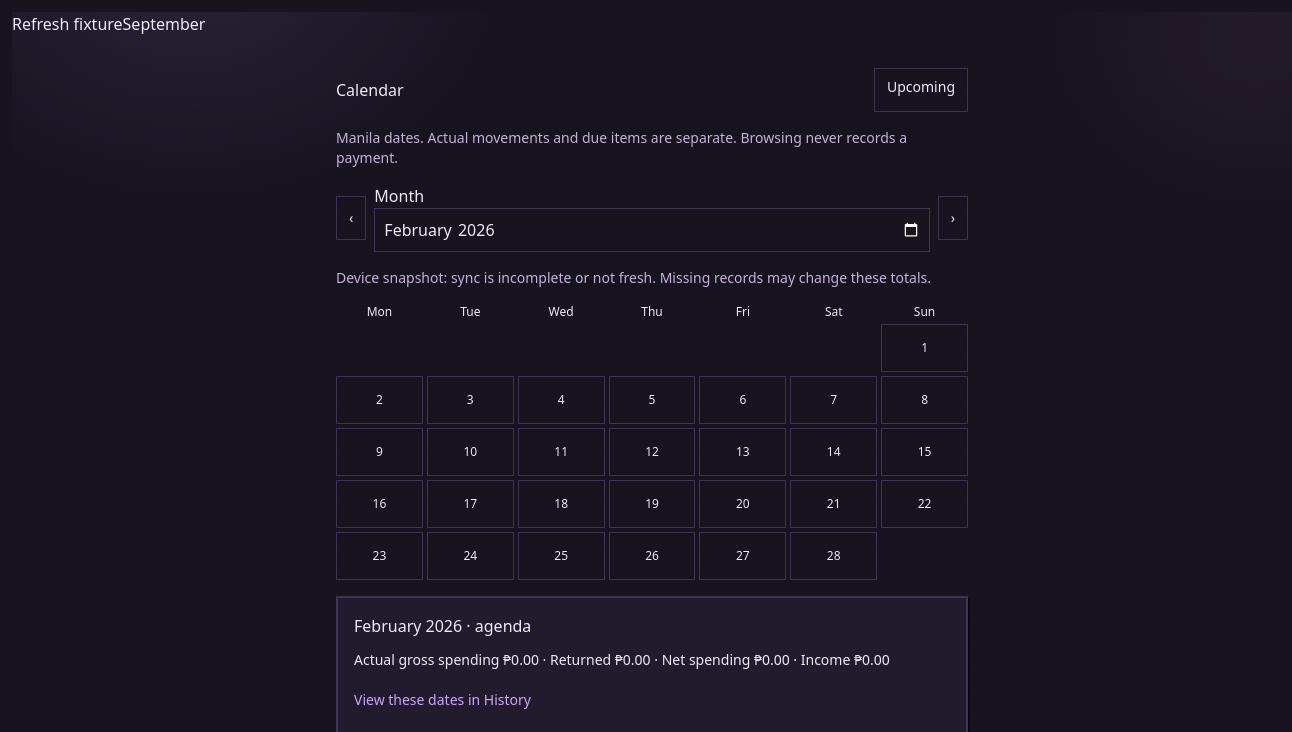
shows empty agenda and rejects invalid URL dates without changing records
Step 1. Click the button named "Next month" → (953, 218), box [938,196,968,240]
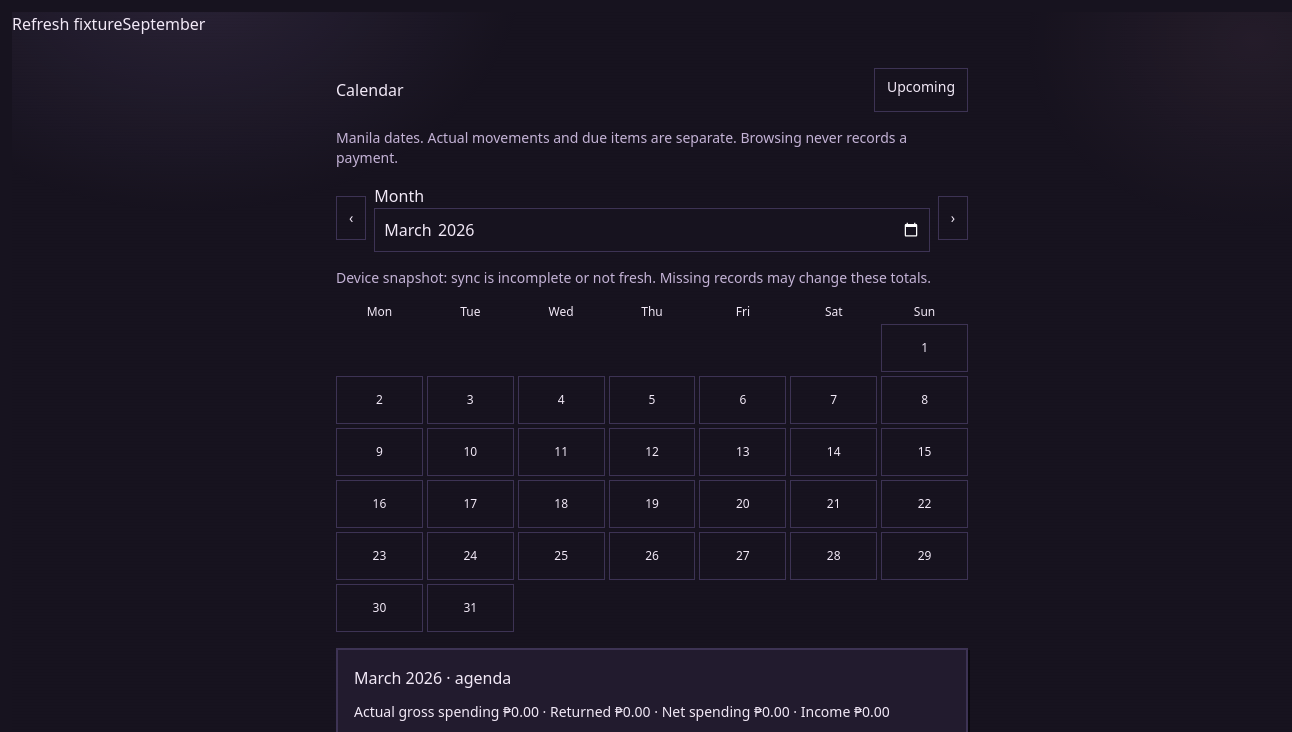
Expected: the field labelled "Month" holds "2026-03", [374,208,930,252]
